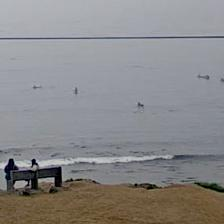surfer: (32, 84, 41, 90), (203, 74, 210, 80), (137, 102, 144, 108), (218, 77, 223, 85), (196, 74, 204, 78), (74, 87, 78, 94)
